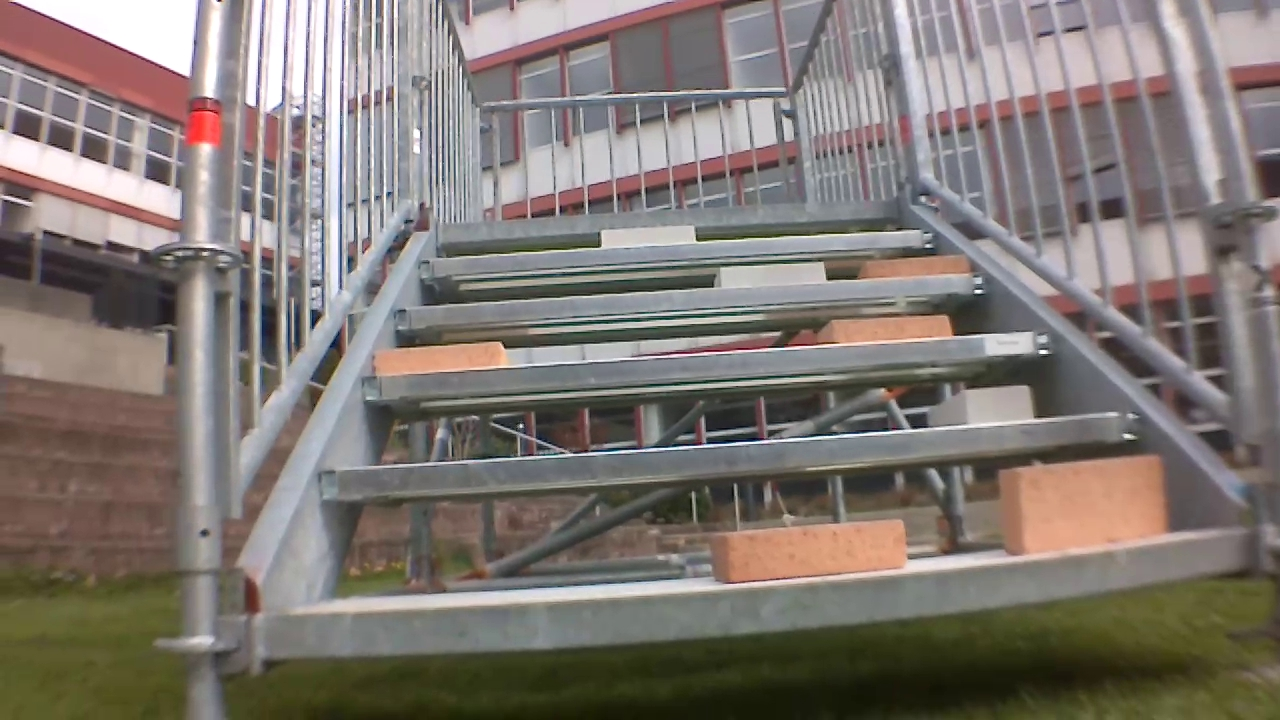brick: (996, 455, 1167, 548), (713, 514, 912, 583), (813, 304, 951, 347), (372, 338, 508, 373), (858, 250, 971, 281), (594, 222, 697, 252), (715, 263, 824, 288), (946, 389, 1030, 421)
edge: (267, 545, 1264, 654), (325, 423, 1151, 505), (361, 335, 1056, 399), (388, 270, 996, 322), (432, 194, 905, 241), (417, 238, 935, 274)
steps: (228, 189, 1271, 669)
